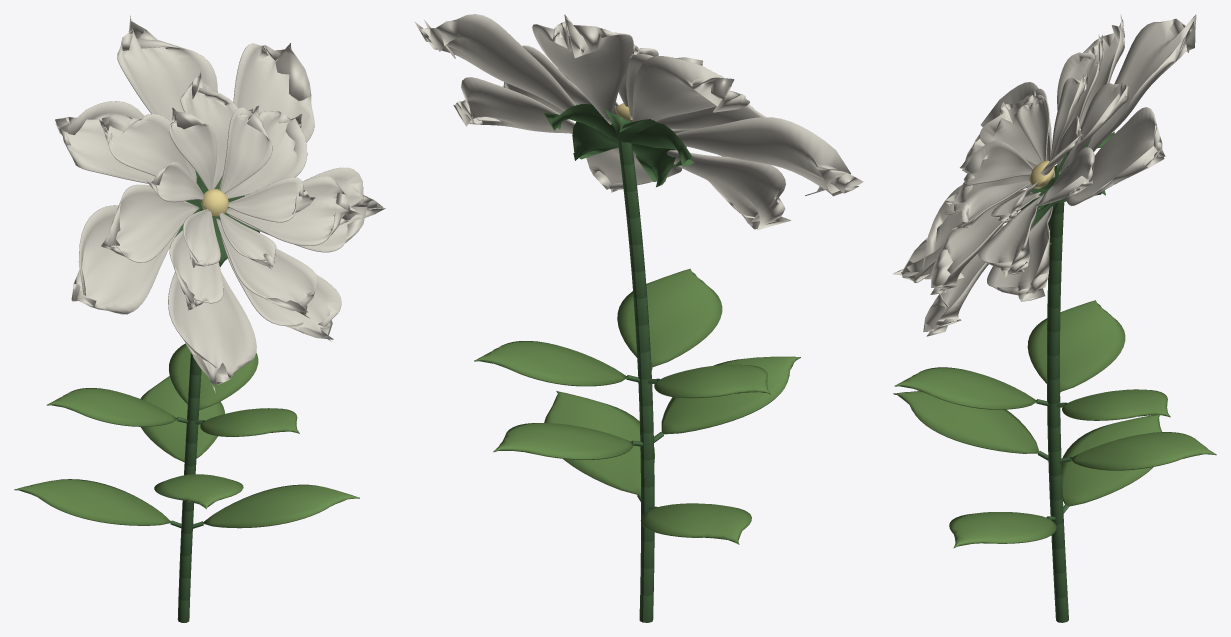
Rendered from gardenia-rare-v2.glb.
3 renders of one model, left to right at view 1: azimuth 30°, elevation 25°; view 2: azimuth 150°, elevation 25°; view 3: azimuth 270°, elevation 25°, orthographic. The views are drawn at different scales.
Parts seen in each view (by area): view 1: gardenia-rare-v2-petal, gardenia-rare-v2-leaf, gardenia-rare-v2-stem, gardenia-rare-v2-center; view 2: gardenia-rare-v2-petal, gardenia-rare-v2-leaf, gardenia-rare-v2-stem; view 3: gardenia-rare-v2-petal, gardenia-rare-v2-leaf, gardenia-rare-v2-stem.
Part boxes in pixels (x1,y1,x2,y2): gardenia-rare-v2-petal: (55, 15, 385, 392); gardenia-rare-v2-leaf: (14, 343, 359, 528); gardenia-rare-v2-stem: (170, 171, 259, 622); gardenia-rare-v2-center: (201, 189, 228, 216); gardenia-rare-v2-petal: (414, 14, 863, 230); gardenia-rare-v2-leaf: (474, 268, 800, 544); gardenia-rare-v2-stem: (544, 104, 694, 622); gardenia-rare-v2-petal: (892, 14, 1196, 336); gardenia-rare-v2-leaf: (893, 300, 1216, 548); gardenia-rare-v2-stem: (1020, 131, 1114, 622).
Bounding box in the file's own units: 1.15 × 1.85 × 0.8898.
